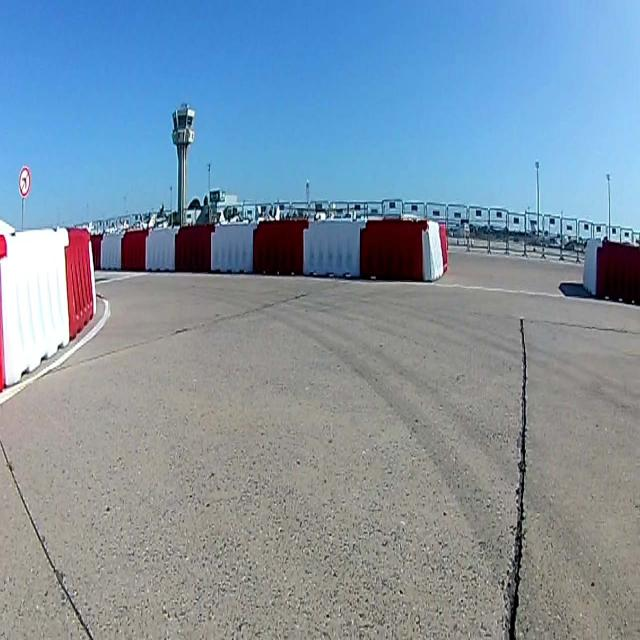soladonulmez: (18, 167, 30, 197)
